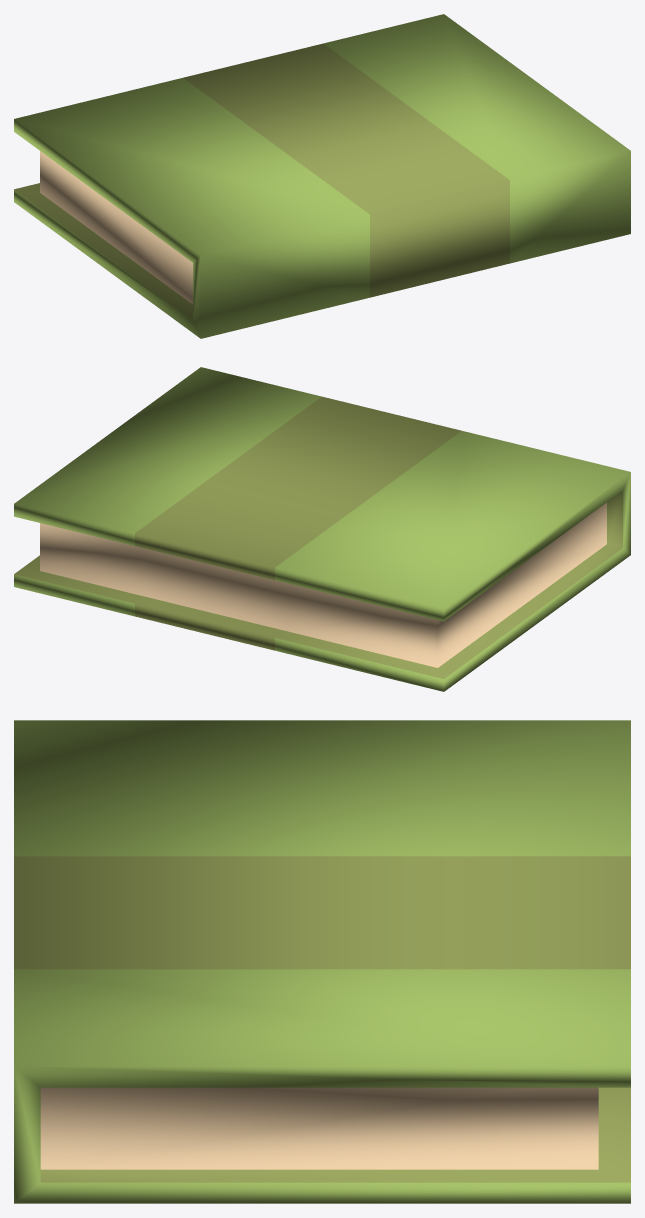
The model's file is book.fbx.
The picture shows the model from 3 angles, top to bottom: view 1: azimuth 30°, elevation 25°; view 2: azimuth 150°, elevation 25°; view 3: azimuth 270°, elevation 25°; orthographic projection. The views are drawn at different scales.
Parts seen in each view (by area): view 1: book; view 2: book; view 3: book.
Boxes of the visible parts, box(x1,y1,x2,y2) form: book: box(14, 14, 630, 338); book: box(14, 367, 630, 691); book: box(14, 720, 630, 1203).
Size of the model in its own units: 266 by 49.09 by 200.
Materials: 1 (1 with a texture image).
